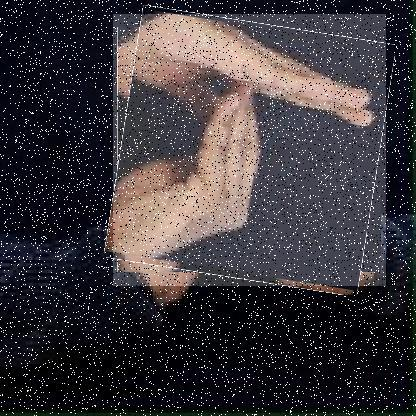Z: (113, 14, 387, 287)
